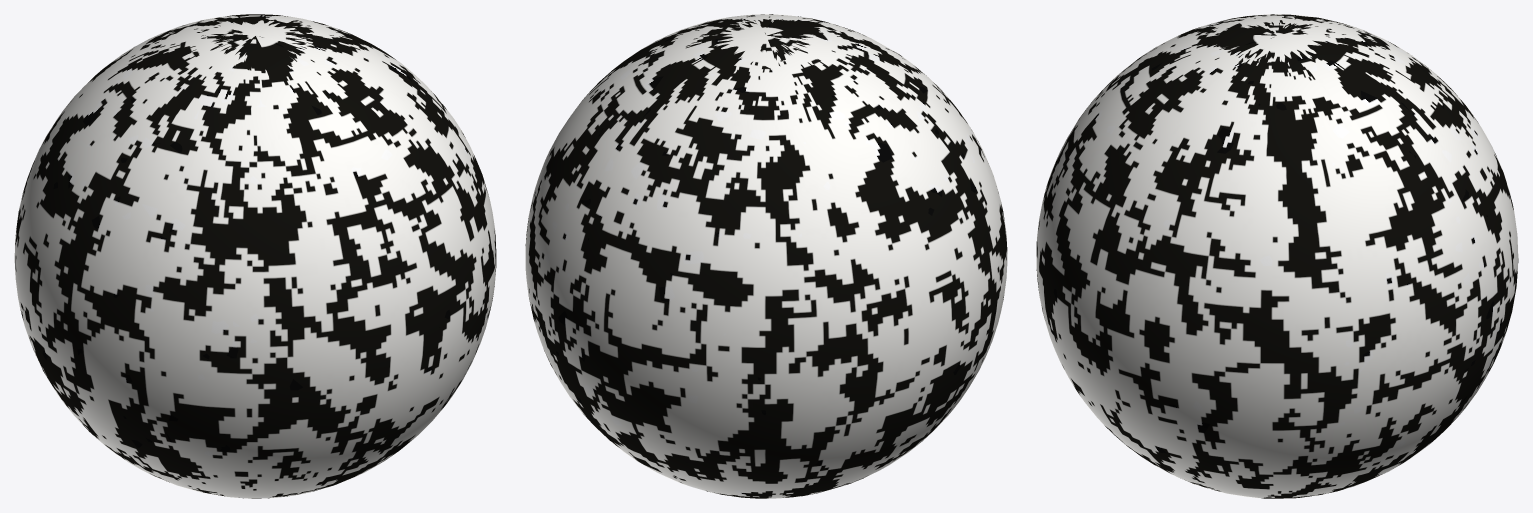
File: Kepler-186_f.glb
The picture shows the model from 3 angles, left to right: view 1: azimuth 30°, elevation 25°; view 2: azimuth 150°, elevation 25°; view 3: azimuth 270°, elevation 25°; orthographic projection.
Parts seen in each view (by area): view 1: Object_4; view 2: Object_4; view 3: Object_4.
Boxes of the visible parts, box(x1,y1,x2,y2) form: Object_4: box(14, 14, 496, 498); Object_4: box(525, 14, 1007, 498); Object_4: box(1036, 14, 1518, 498).
Size of the model in its own units: 1.98 by 2 by 1.98.
3 materials, 2 textured.
